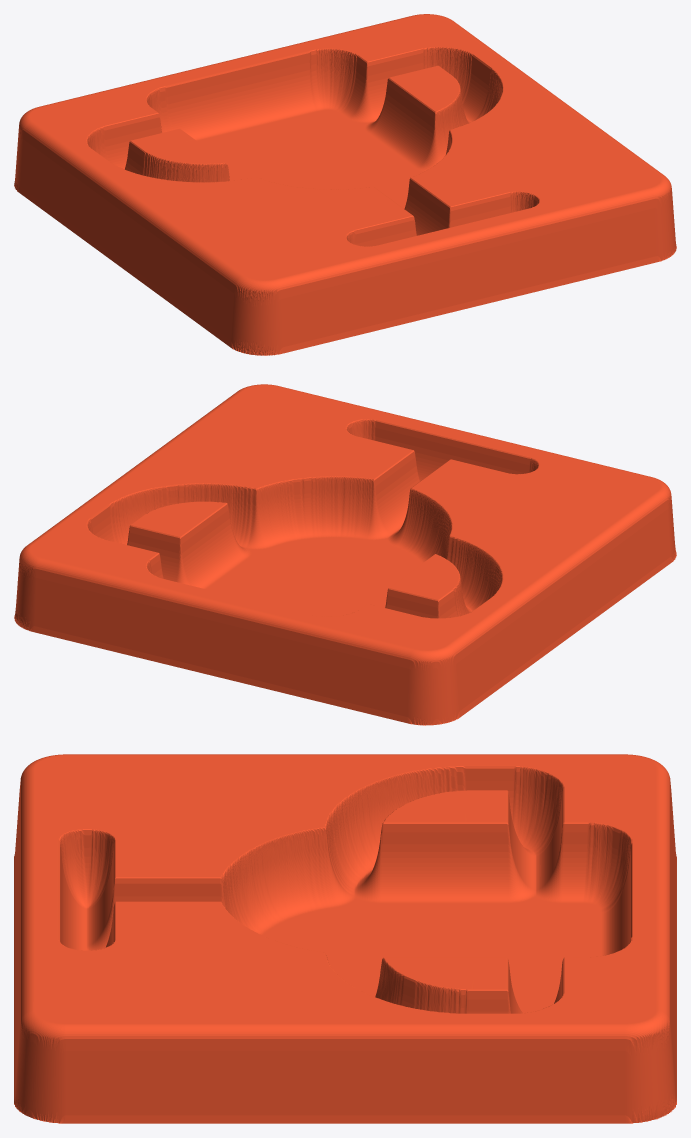
File: mold.glb
The picture shows the model from 3 angles, top to bottom: view 1: azimuth 30°, elevation 25°; view 2: azimuth 150°, elevation 25°; view 3: azimuth 270°, elevation 25°; orthographic projection. The views are drawn at different scales.
Visible parts, largest first — view 1: geometry_0; view 2: geometry_0; view 3: geometry_0.
Boxes of the visible parts, left/top/right/bottom form: geometry_0: left=14, top=14, right=676, bottom=355; geometry_0: left=14, top=384, right=676, bottom=725; geometry_0: left=14, top=754, right=676, bottom=1123.
Bounding box in the file's own units: 0.1178 × 0.0175 × 0.1156.
